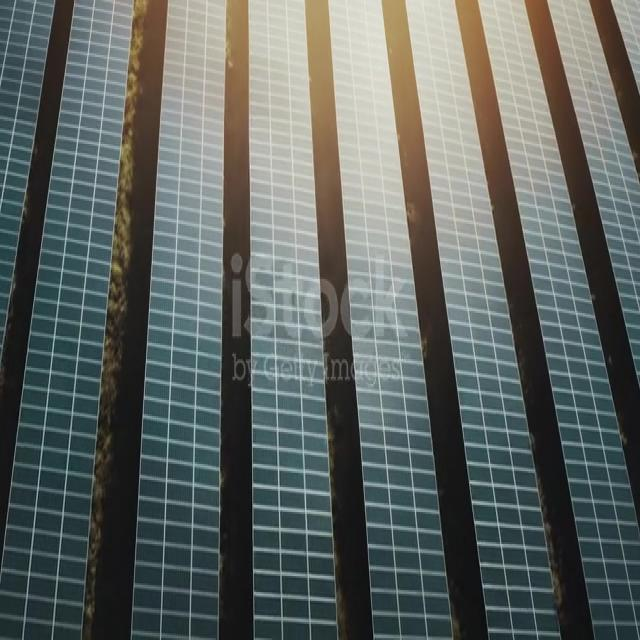Solar-panels: (407, 3, 565, 640), (480, 3, 638, 640), (1, 1, 135, 640), (330, 3, 454, 638), (133, 2, 228, 640), (249, 4, 341, 640), (550, 3, 640, 393), (1, 1, 56, 367)
